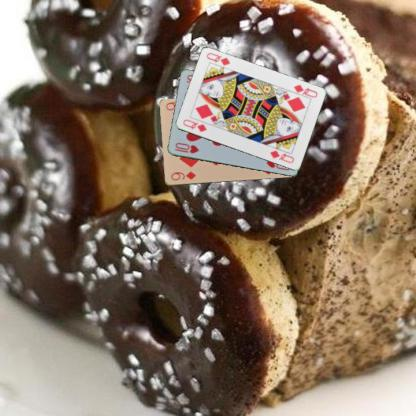10h: (172, 140, 200, 155)
9d: (168, 169, 197, 182)
Qd: (288, 82, 318, 101), (180, 116, 208, 134)
